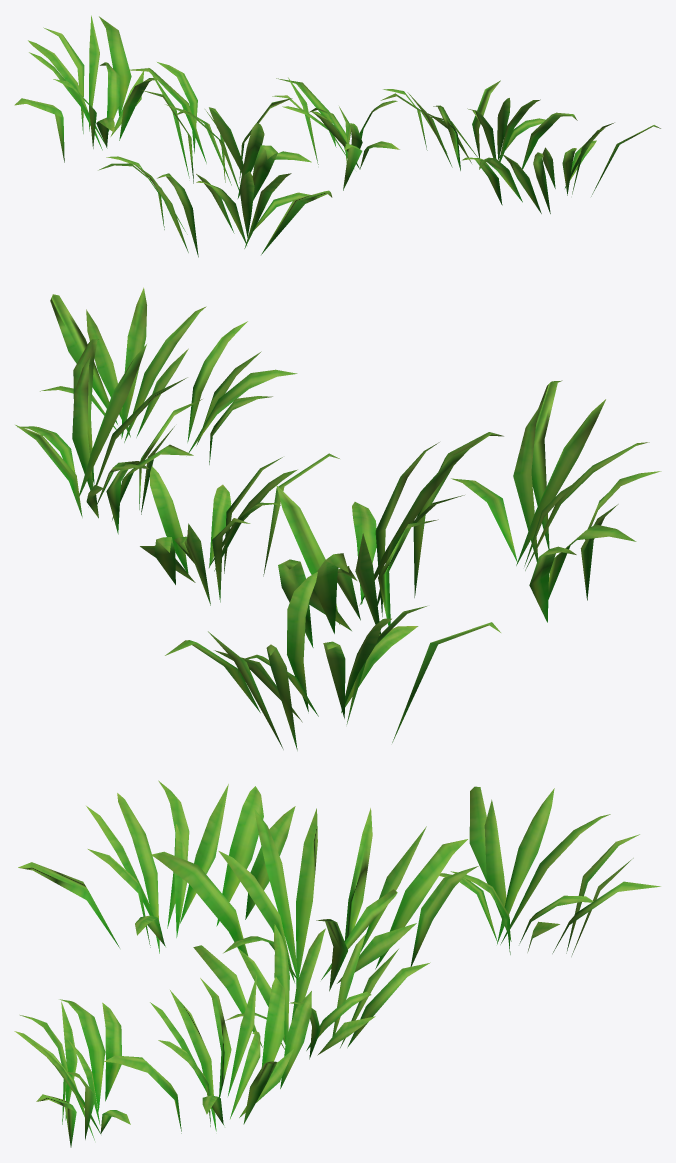
Rendered from cao_fenzu03.fbx.
3 renders of one model, top to bottom at view 1: azimuth 30°, elevation 25°; view 2: azimuth 150°, elevation 25°; view 3: azimuth 270°, elevation 25°, orthographic. The views are drawn at different scales.
Visible parts, largest first — view 1: cao_07__163_; view 2: cao_07__163_; view 3: cao_07__163_.
Part boxes in pixels (x1=…): cao_07__163_: x1=14, y1=15, x2=660, y2=257; cao_07__163_: x1=15, y1=287, x2=661, y2=750; cao_07__163_: x1=14, y1=780, x2=660, y2=1147.
Bounding box in the file's own units: 437 × 105 × 399.
